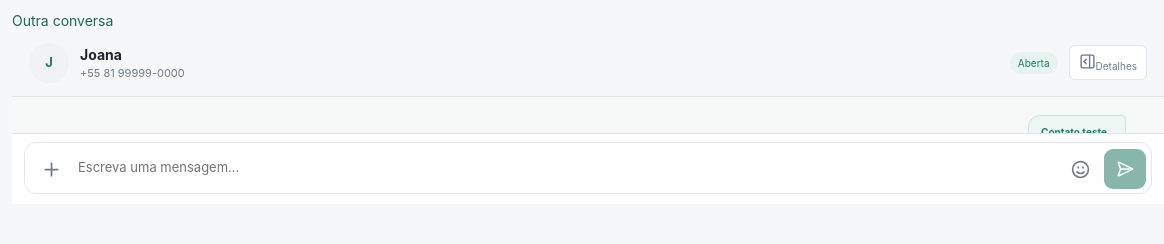
Scenario: ConversationView › does not force the reader down during an optimistic send and reconciliation
(page scrolled)
Type "Resposta de texto" into the text box named "Escrever mensagem" at (566, 168), box [75,147,1056,189]
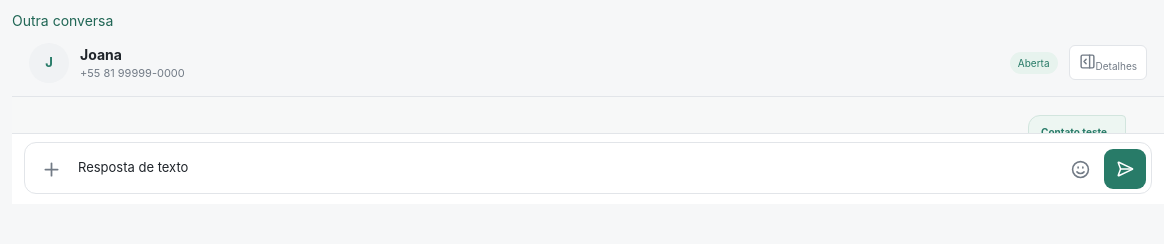
Click the button named "Enviar mensagem" at (1125, 169), box [1104,149,1146,189]
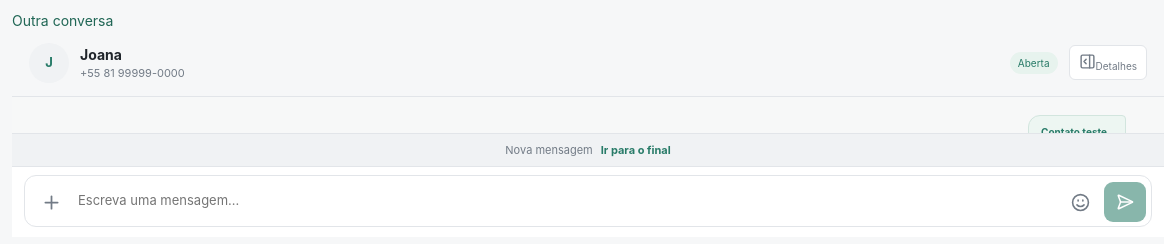
Check: the text "Nova mensagem" is shown, box [505,143,593,157]
